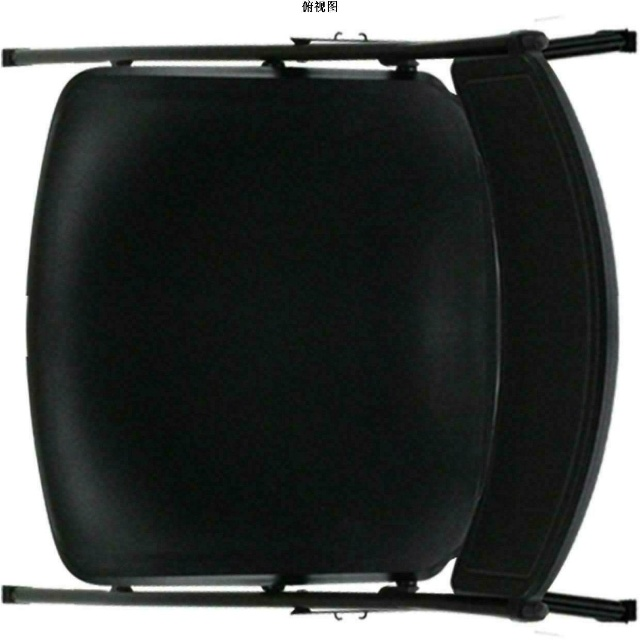obstacle: (3, 30, 635, 620)
